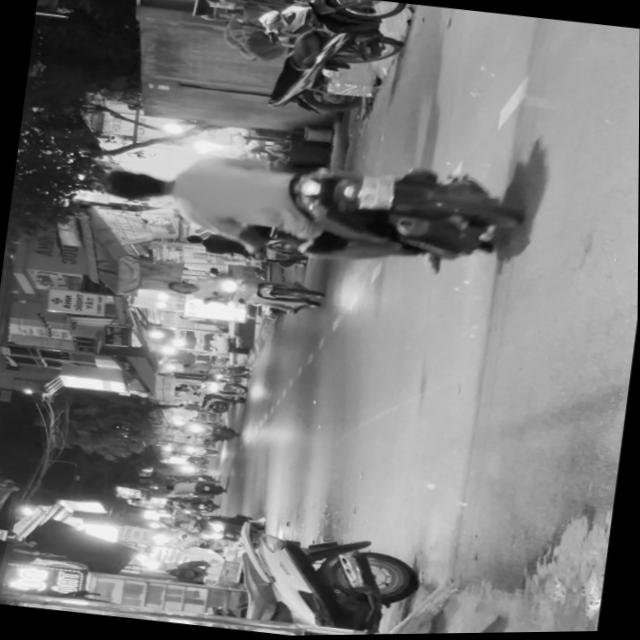licenseplate: (94, 125, 527, 287)
motorcyclist: (101, 163, 171, 204)
nohelmet: (356, 173, 393, 210)
